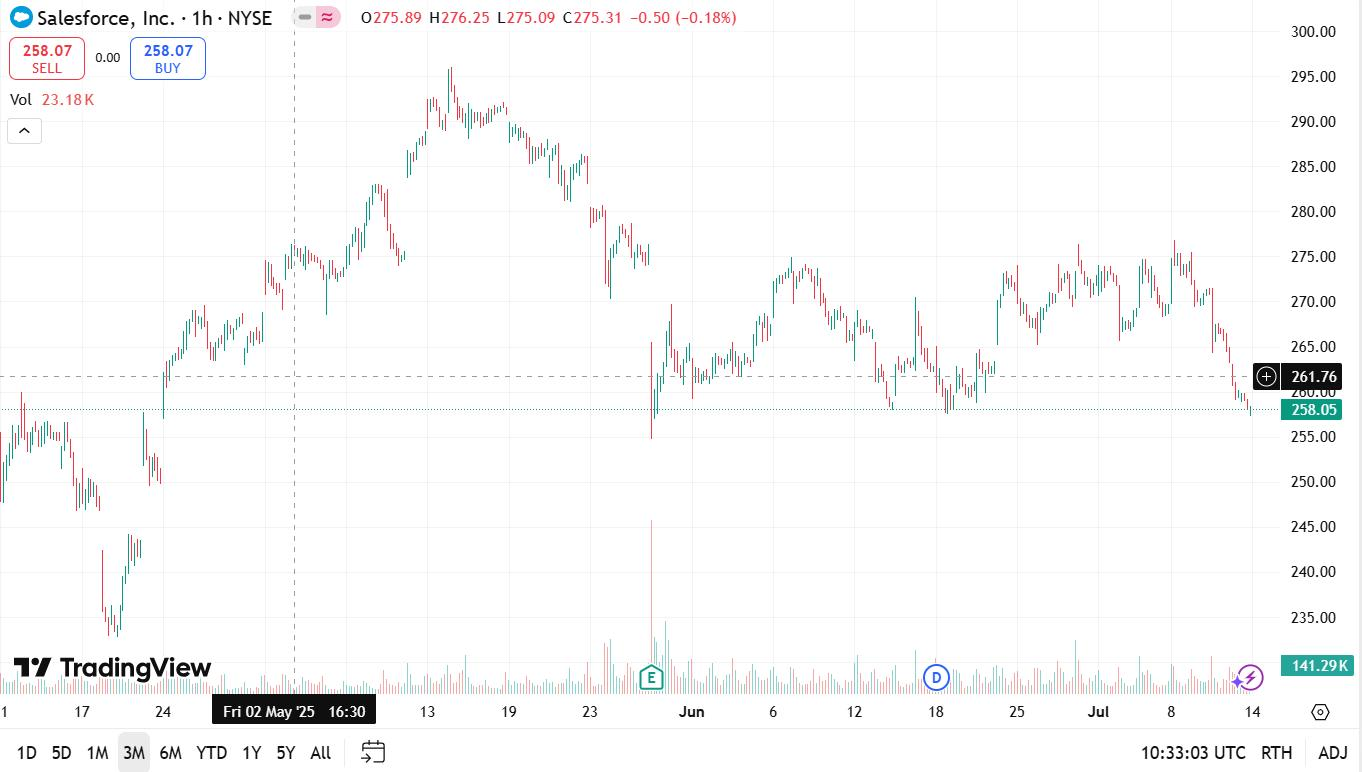Downtrend: (445, 64, 659, 300), (797, 244, 893, 421), (60, 417, 123, 646), (4, 390, 87, 511)
Sideways: (995, 246, 1152, 349)
Uptrend: (160, 84, 443, 418)
